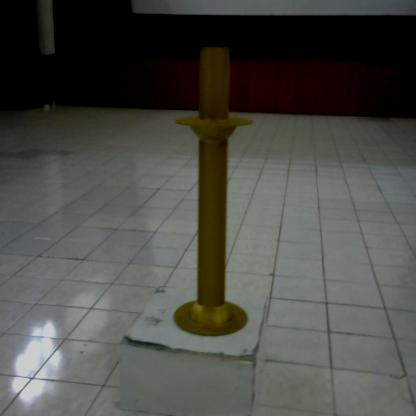pole: (167, 38, 258, 347)
